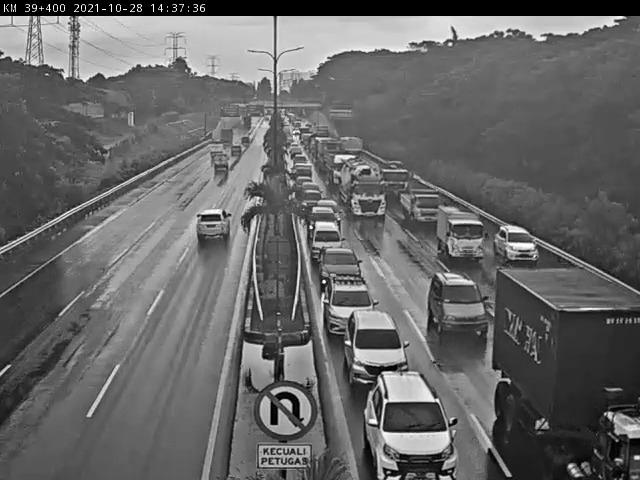big truck: (486, 260, 640, 480), (337, 157, 385, 217)
car: (362, 366, 462, 480), (340, 303, 413, 391), (423, 271, 487, 342), (320, 271, 379, 342), (317, 243, 365, 295), (490, 219, 541, 262), (189, 205, 236, 247), (309, 216, 346, 264), (307, 204, 342, 239), (313, 198, 343, 234), (297, 188, 326, 217)
small truck: (432, 202, 483, 262), (396, 183, 439, 224)
